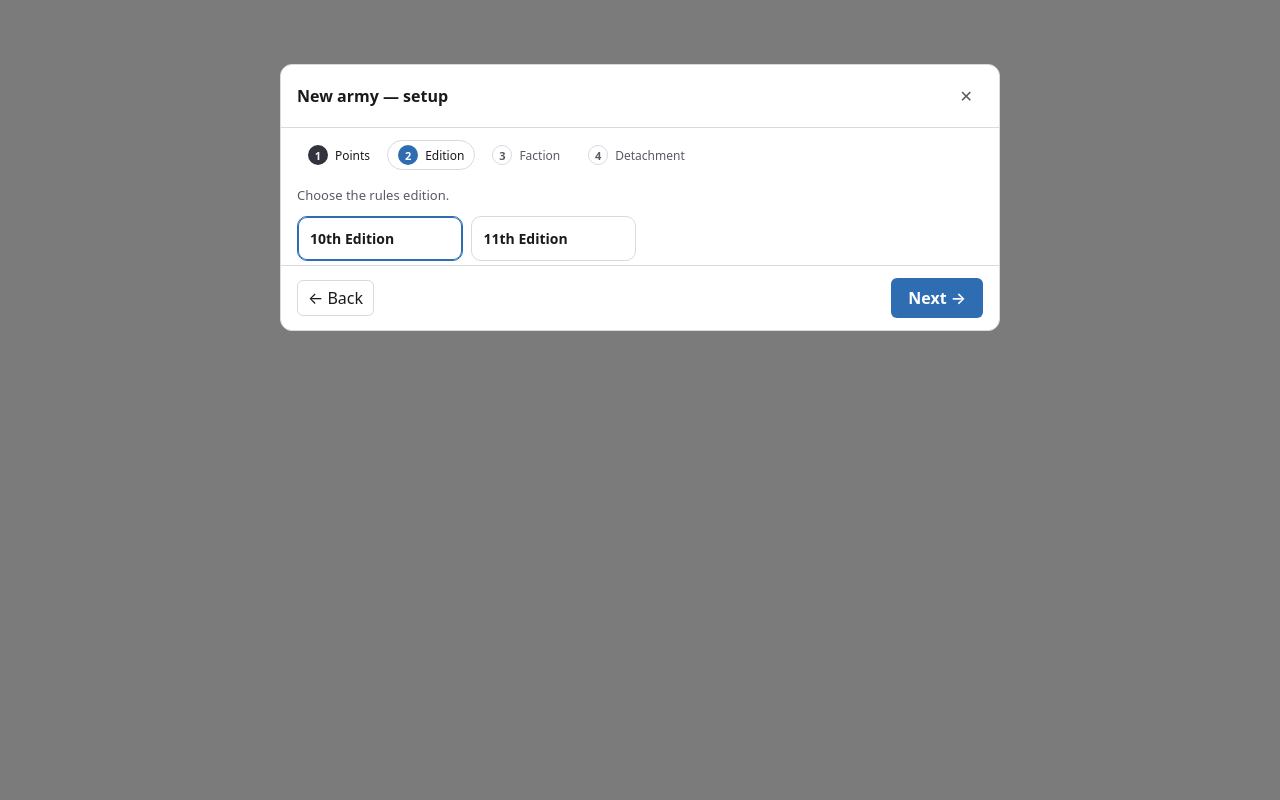
Scenario: SetupWizard › clicking another edition card advances to the Faction step showing that edition's factions
Click the button "11th Edition" at {"x": 553, "y": 238}, box [470,216,636,261]
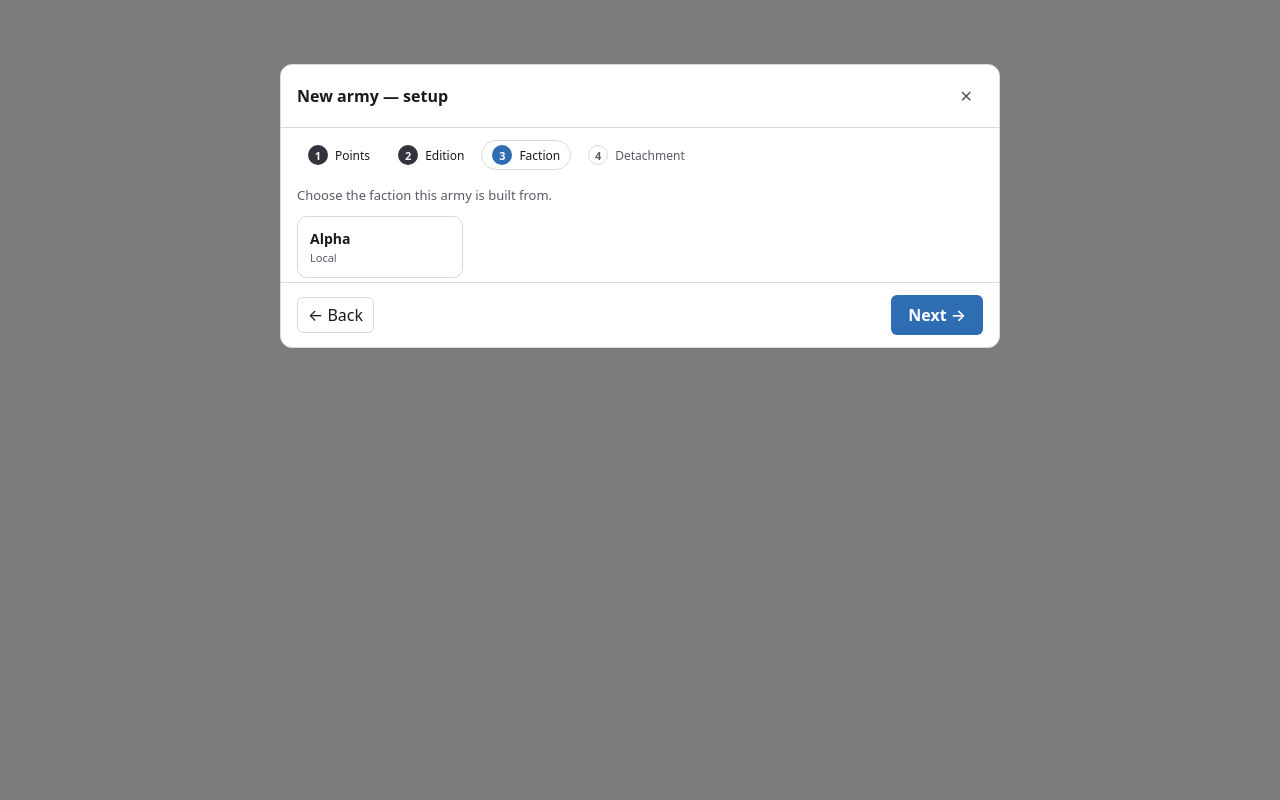
Result: the text "Alpha" is shown once at [310,229,350,248]
